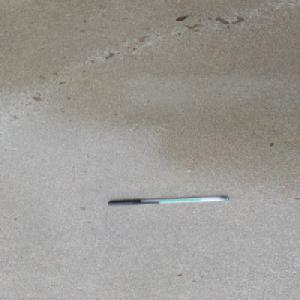Pen: (107, 195, 230, 206)
